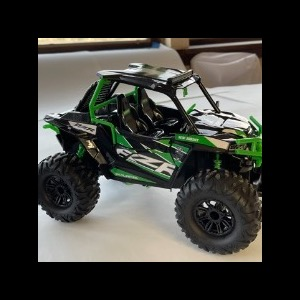polaris: (39, 62, 261, 255)
